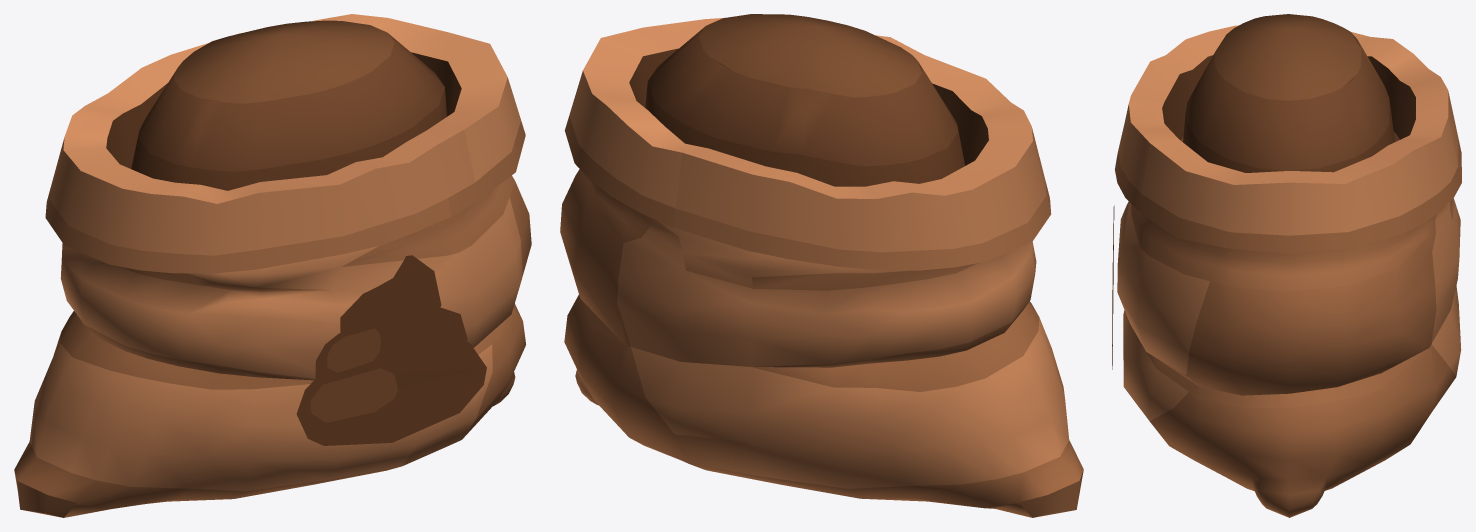
File: Bag.fbx
The picture shows the model from 3 angles, left to right: view 1: azimuth 30°, elevation 25°; view 2: azimuth 150°, elevation 25°; view 3: azimuth 270°, elevation 25°; orthographic projection. The views are drawn at different scales.
Parts seen in each view (by area): view 1: Bag; view 2: Bag; view 3: Bag.
Part boxes in pixels (x1,y1,x2,y2): Bag: [14, 14, 531, 517]; Bag: [560, 14, 1083, 517]; Bag: [1112, 14, 1461, 517].
Bounding box in the file's own units: 1.9 × 1.54 × 1.24.
